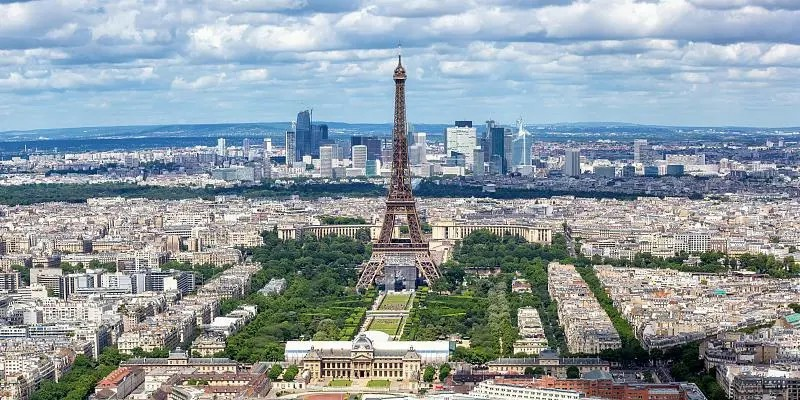Eiffel: (355, 41, 440, 290)
